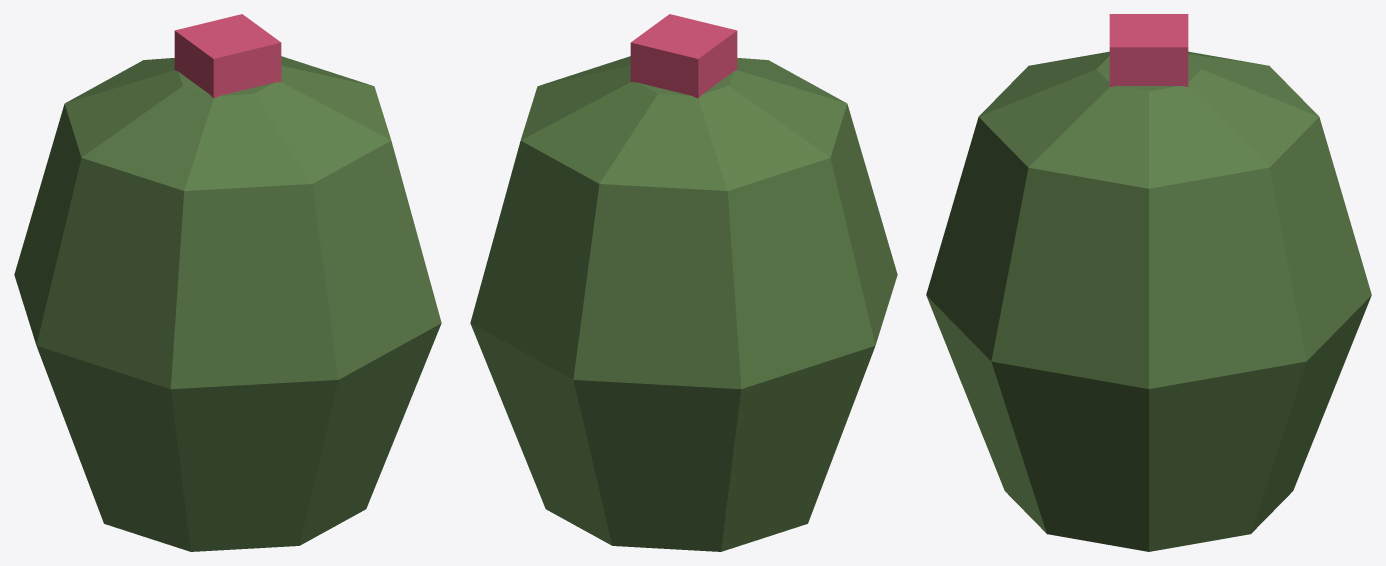
Rendered from SM_BarrelCactus.fbx.
3 renders of one model, left to right at view 1: azimuth 30°, elevation 25°; view 2: azimuth 150°, elevation 25°; view 3: azimuth 270°, elevation 25°, orthographic.
Visible parts, largest first — view 1: BarrelCactus; view 2: BarrelCactus; view 3: BarrelCactus.
Part boxes in pixels (x1,y1,x2,y2): BarrelCactus: (14, 14, 441, 551); BarrelCactus: (470, 14, 897, 551); BarrelCactus: (926, 14, 1371, 551).
Bounding box in the file's own units: 68 × 68 × 77.5.
